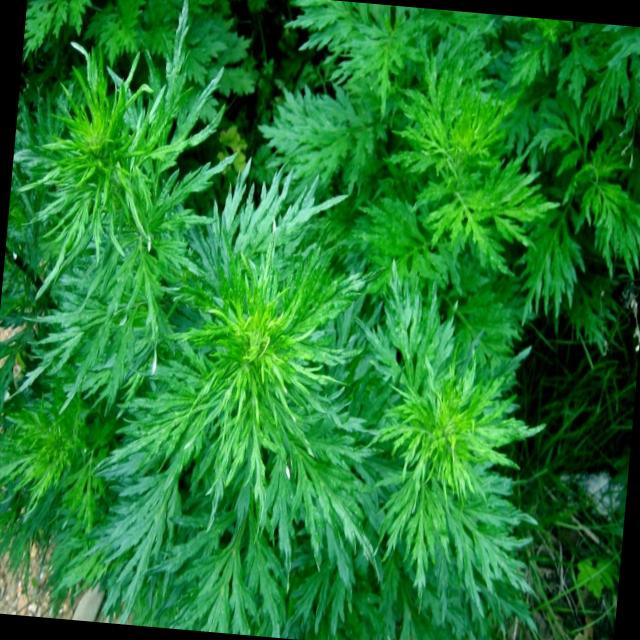ambrosia: (160, 172, 378, 568), (22, 45, 210, 364), (366, 270, 534, 608), (361, 4, 554, 245)
